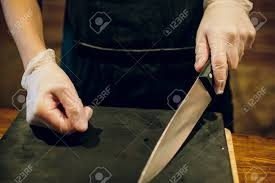knife: (137, 16, 256, 183)
